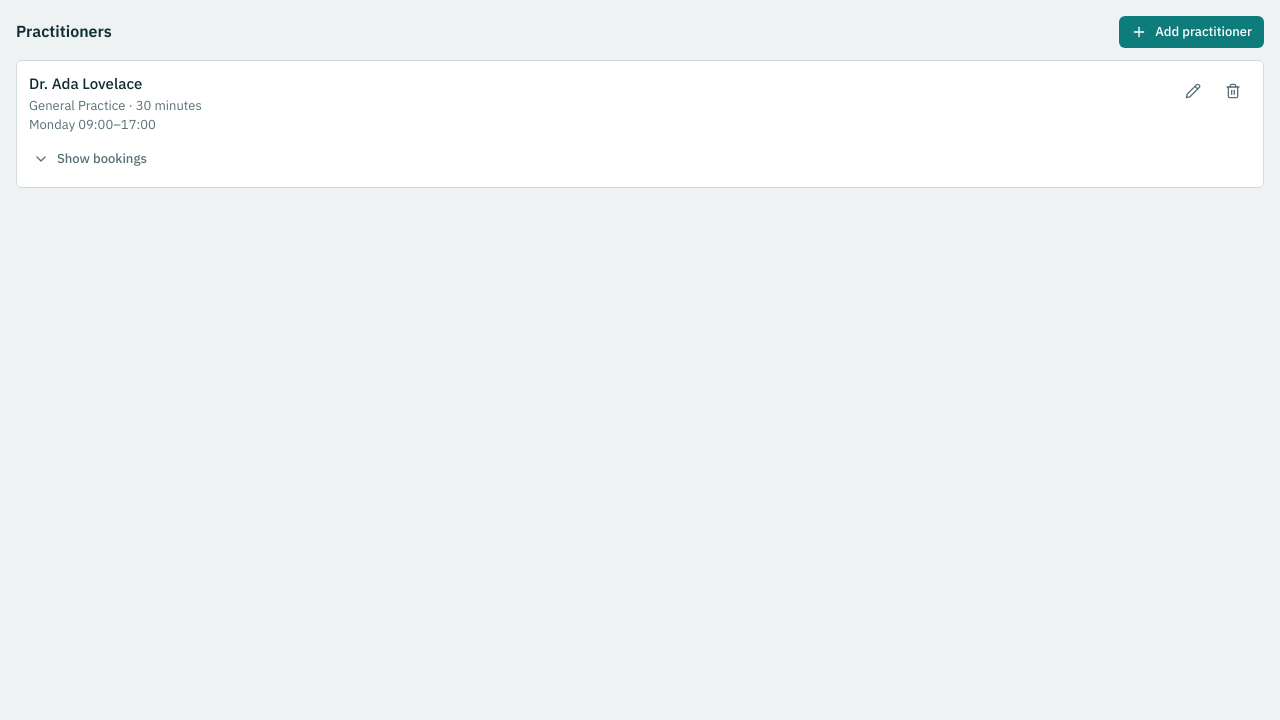
Test: PractitionerAdmin: the edit view replaces the tab's content › returns to the roster from an untouched edit view, asking nothing
Press the mouse on the button named "Edit Dr. Ada Lovelace" at point(1193, 91), box [1175, 73, 1211, 109]
Click the button named "Edit Dr. Ada Lovelace" at point(1193, 91), box [1175, 73, 1211, 109]
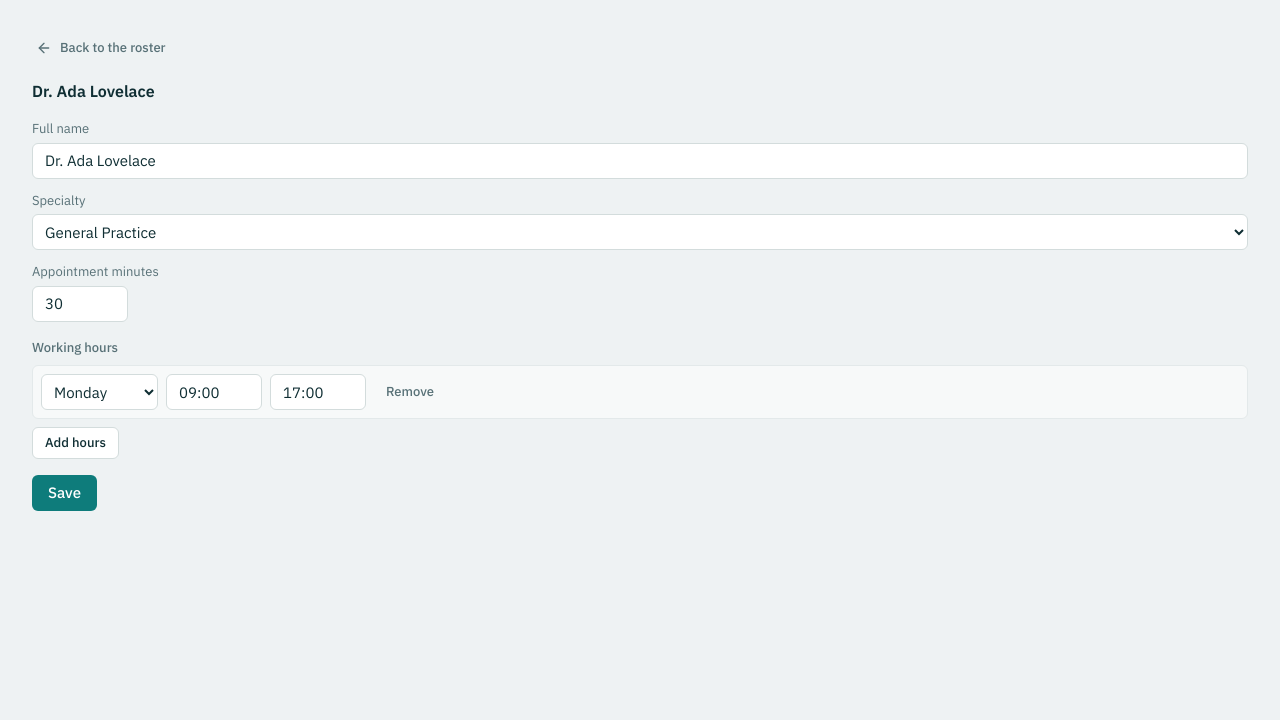
Press the mouse on the button "Back to the roster" at point(101, 48), box [24, 32, 178, 64]
Click the button "Back to the roster" at point(101, 48), box [24, 32, 178, 64]
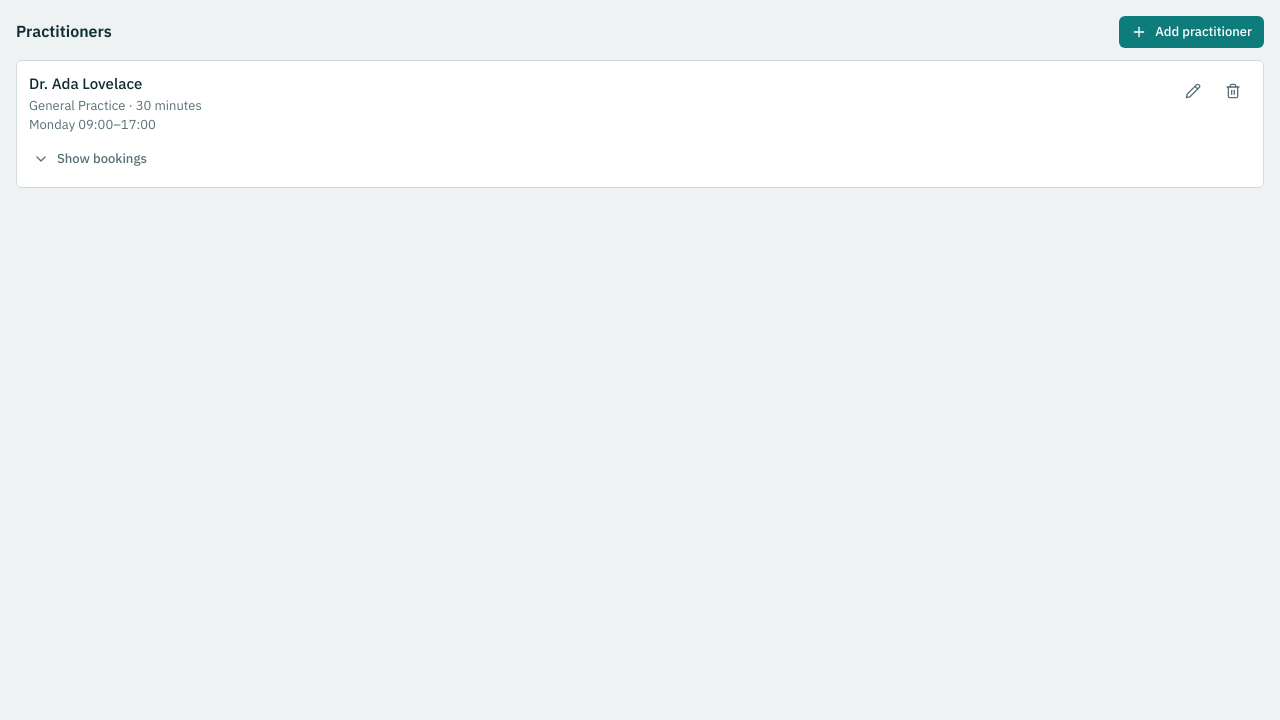
Expected: the list item with test id "practitioner" is shown, [16, 60, 1264, 188]
Expected: the element with test id "practitioner-edit" is gone
